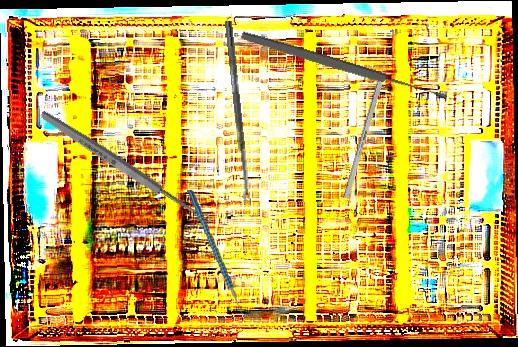Chopper: (187, 186, 255, 324)
Pusher: (343, 40, 394, 200)
Surgical Spoon: (38, 108, 213, 228), (238, 28, 450, 105), (223, 20, 252, 206)
